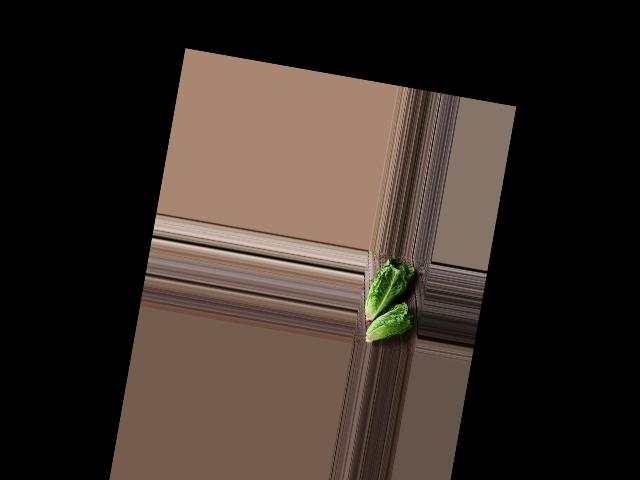lettuce: (362, 294, 420, 353)
